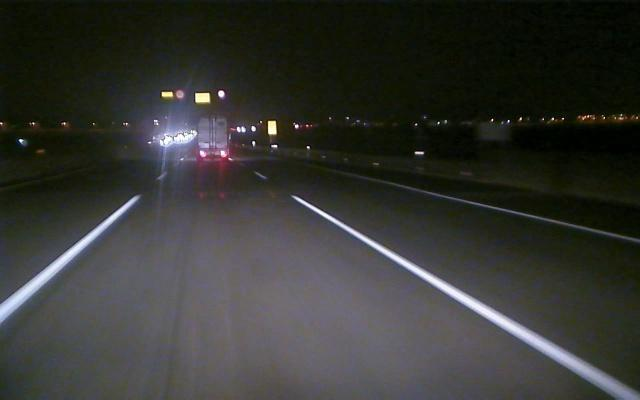lane: (255, 173, 636, 396), (1, 196, 140, 322), (386, 180, 640, 244)
